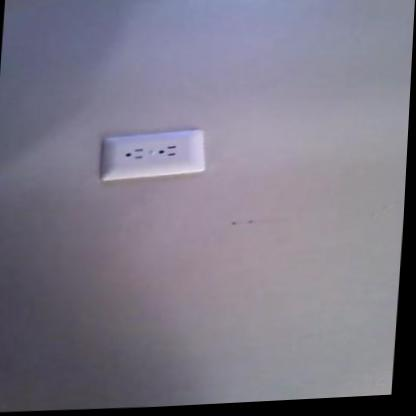OUTLET: (98, 130, 206, 177)
